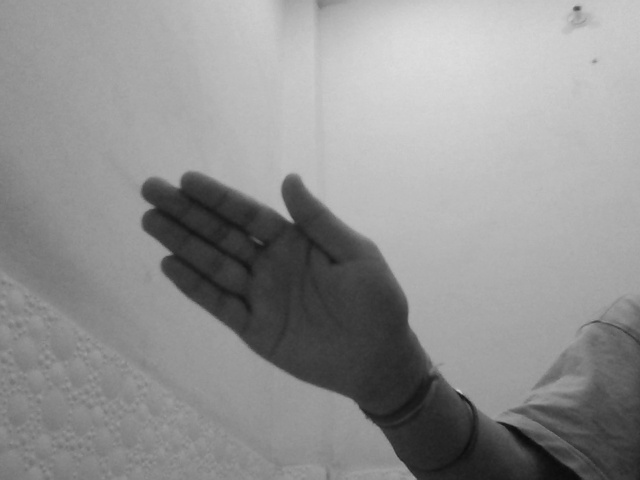Hello: (135, 163, 417, 403)
